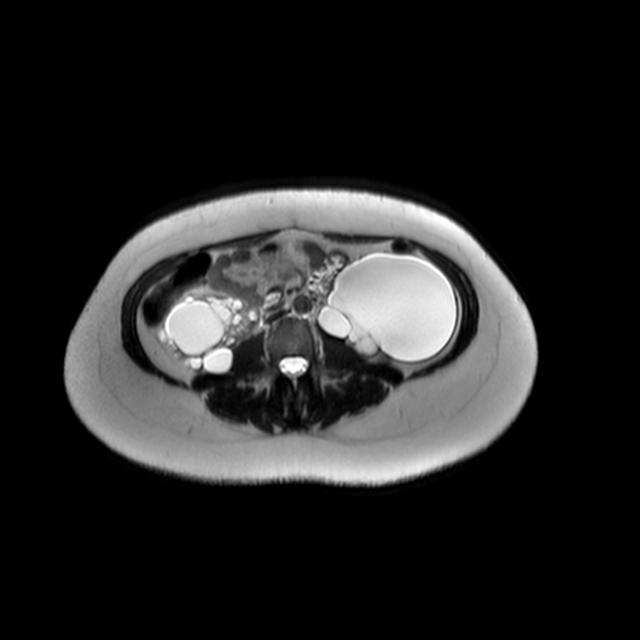sag: (156, 292, 264, 375)
sol: (315, 252, 456, 364)
